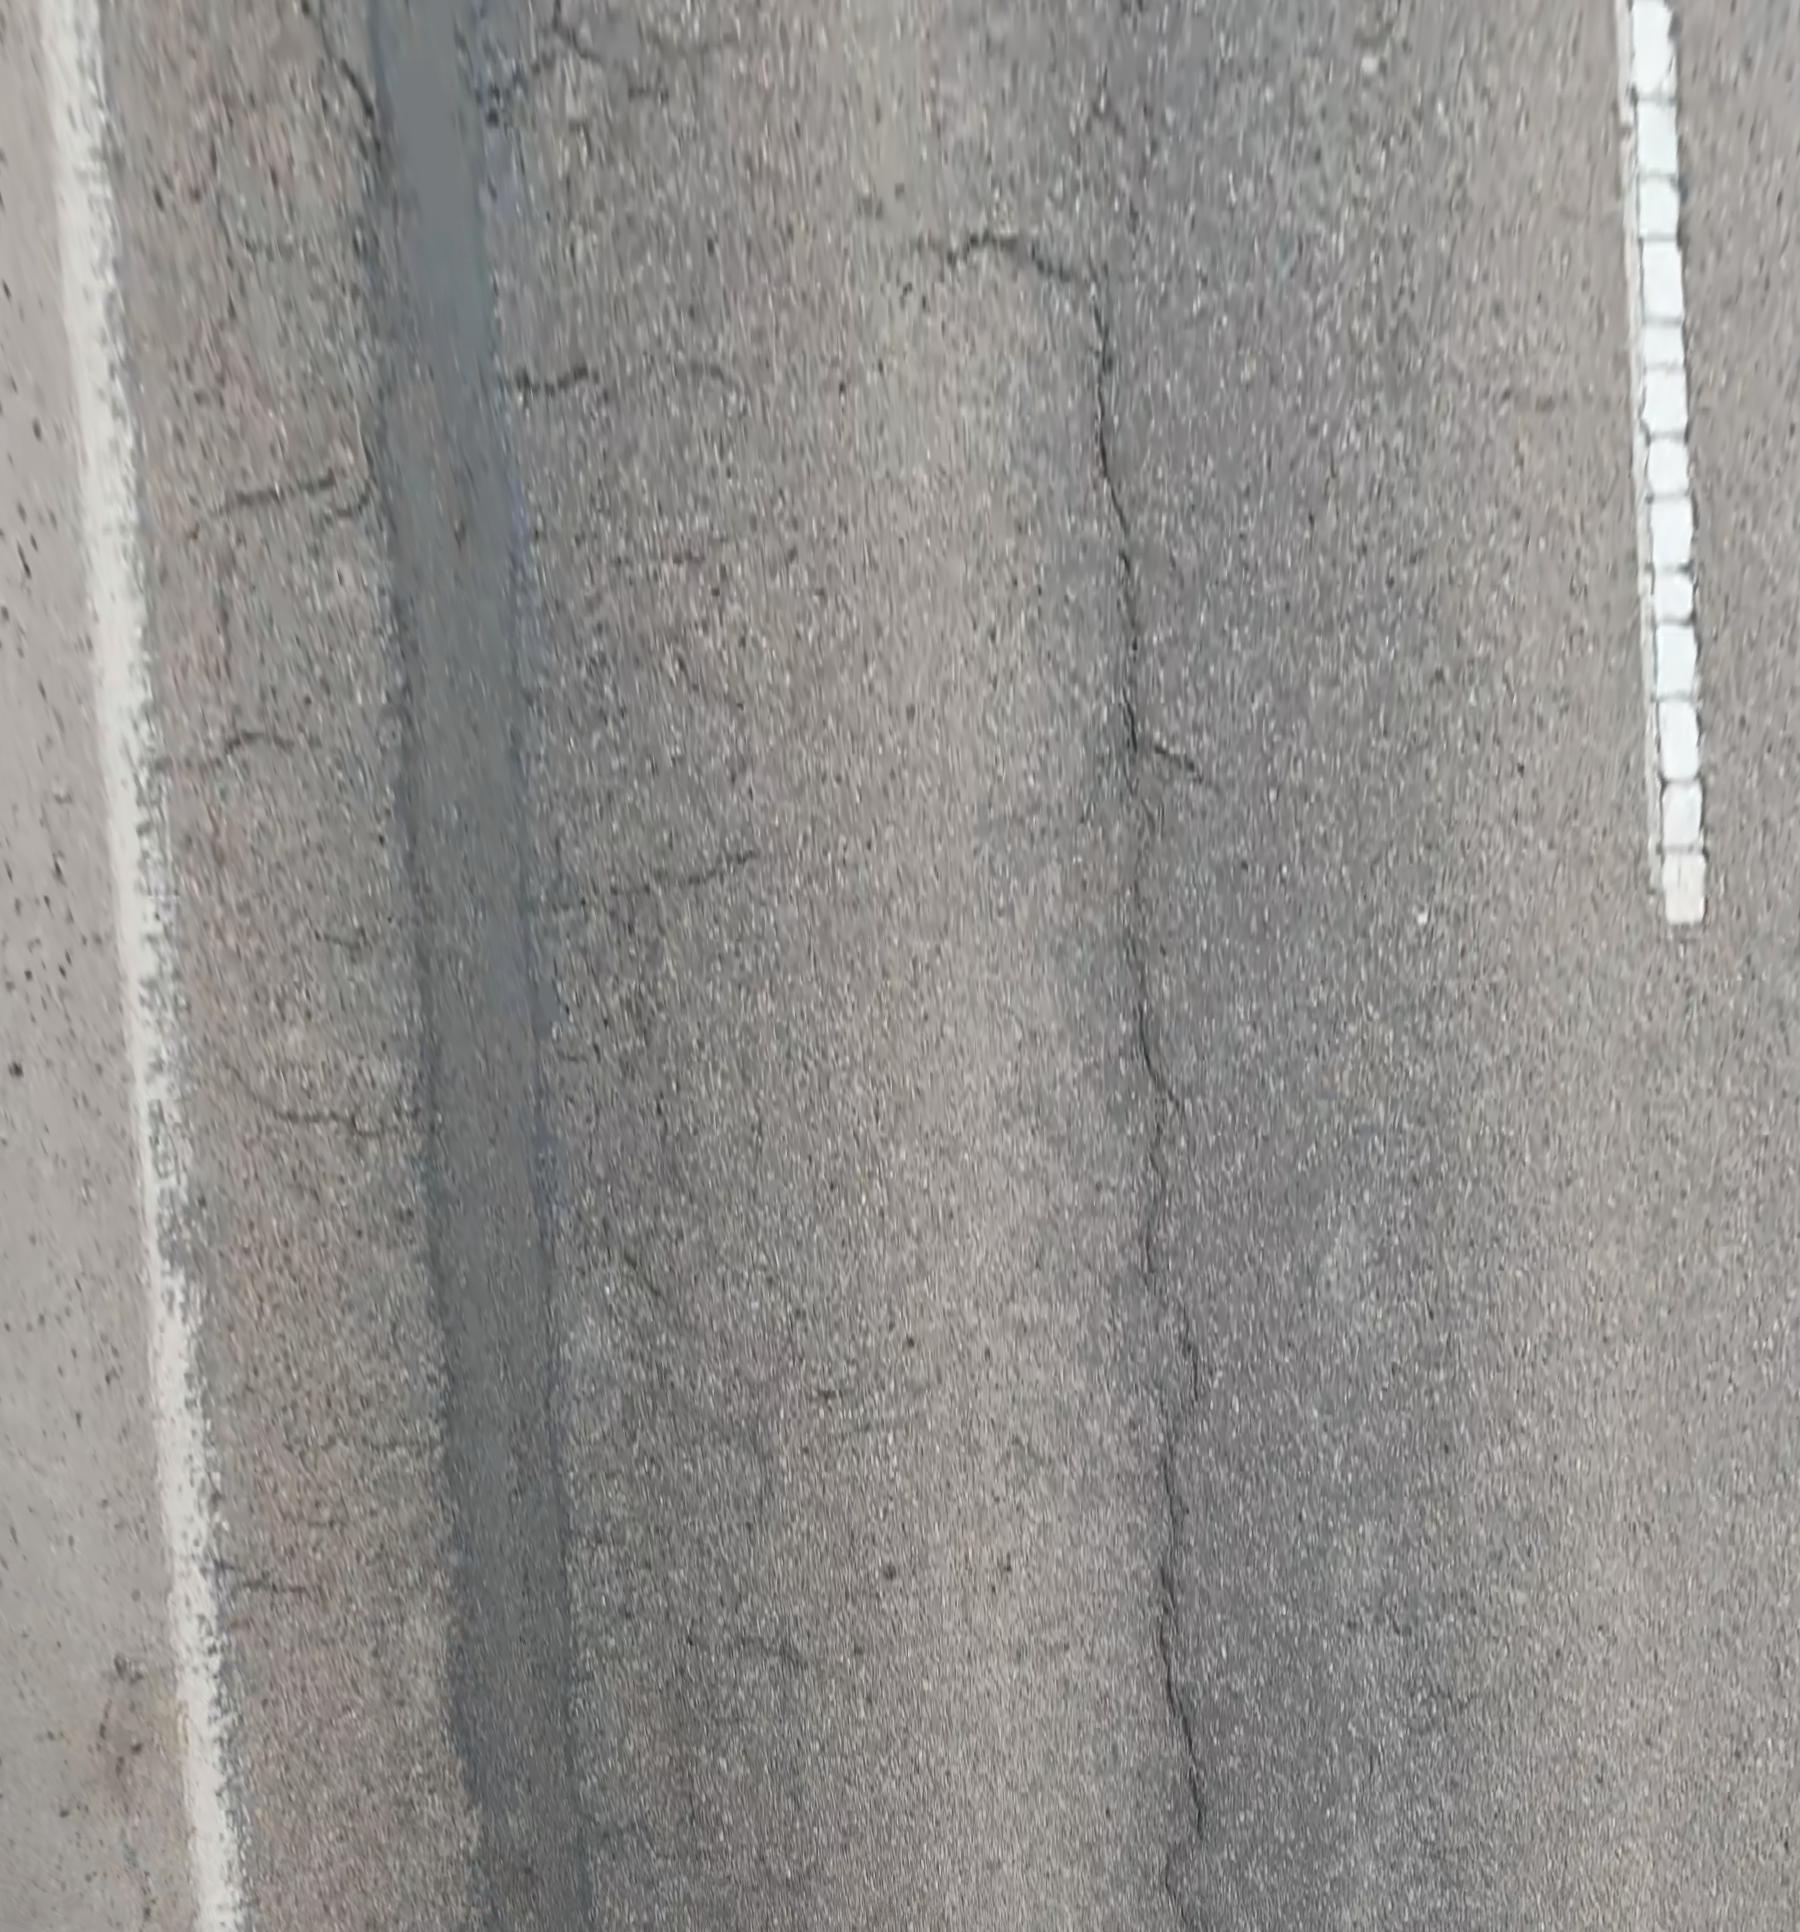pothole_patch_good: (369, 0, 590, 1932)
